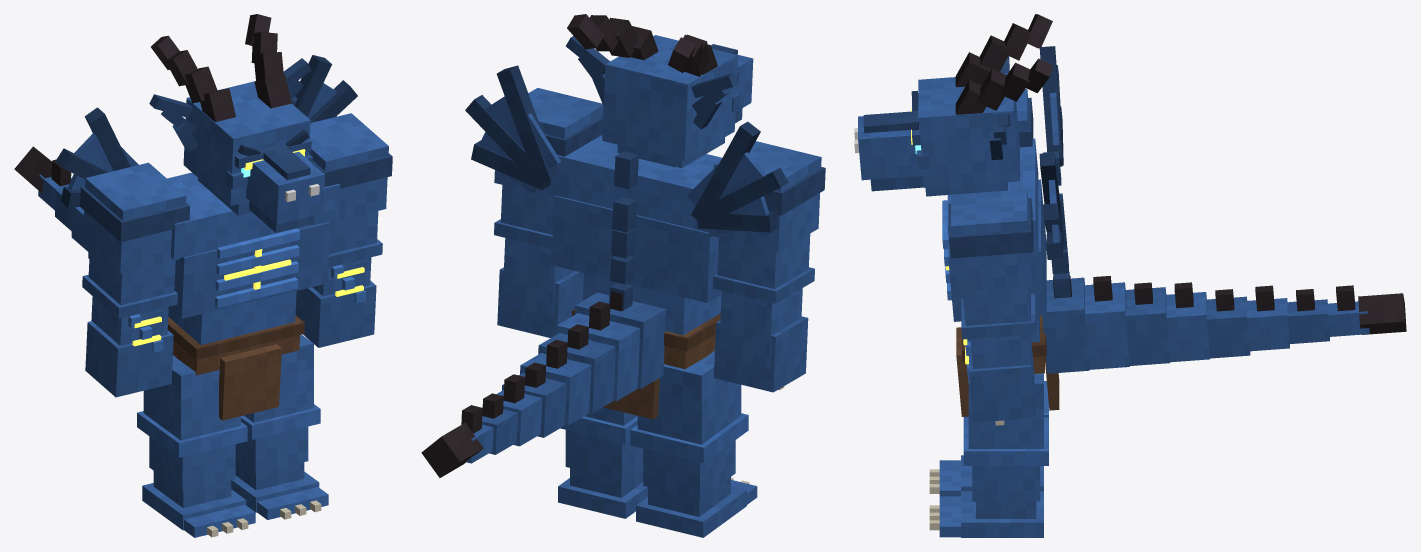
Rendered from dragonoid_base_v3_evo1.glb.
3 views of the same model, side by side, from view 1: azimuth 30°, elevation 25°; view 2: azimuth 150°, elevation 25°; view 3: azimuth 270°, elevation 25° (orthographic). The views are drawn at different scales.
Parts seen in each view (by area): view 1: Torso, Head, ArmR, ArmL, LegR, LegL, Root; view 2: Torso, Head, ArmR, LegR, ArmL, LegL; view 3: Torso, Head, ArmL, LegL, LegR, ArmR.
Part boxes in pixels (<box>): Torso: <box>14,55,357,420</box>; Head: <box>149,14,324,232</box>; ArmR: <box>80,162,189,397</box>; ArmL: <box>295,113,392,347</box>; LegR: <box>137,355,255,537</box>; LegL: <box>231,334,328,519</box>; Root: <box>207,500,321,537</box>; Torso: <box>421,65,788,477</box>; Head: <box>565,14,753,168</box>; ArmR: <box>712,141,825,392</box>; LegR: <box>630,350,757,537</box>; ArmL: <box>494,88,603,337</box>; LegL: <box>558,407,647,518</box>; Torso: <box>942,46,1406,416</box>; Head: <box>854,14,1052,196</box>; ArmL: <box>948,189,1036,425</box>; LegL: <box>939,373,1048,537</box>; LegR: <box>939,381,1048,496</box>; ArmR: <box>1016,89,1033,147</box>.
Size of the model in its own units: 1.38 by 2.05 by 2.2.
Materials: 30 (30 with a texture image).
